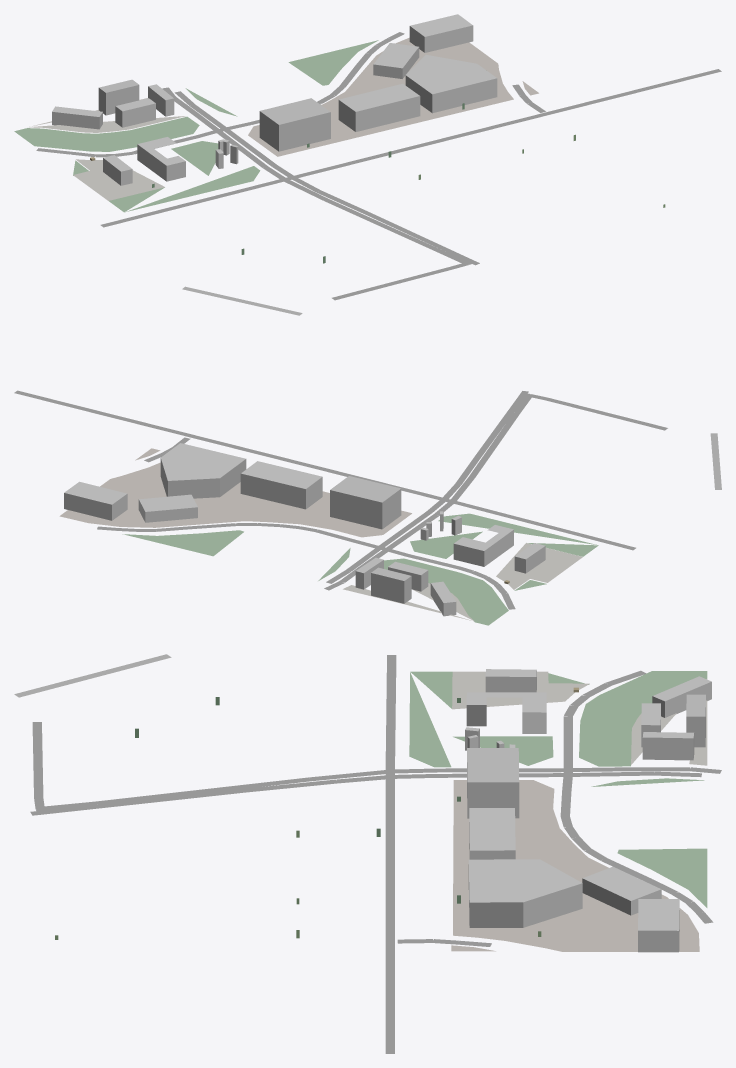
3 renders of one model, top to bottom at view 1: azimuth 30°, elevation 25°; view 2: azimuth 150°, elevation 25°; view 3: azimuth 270°, elevation 25°, orthographic. The views are drawn at different scales.
Size of the model in its own units: 721 by 35.53 by 528.
